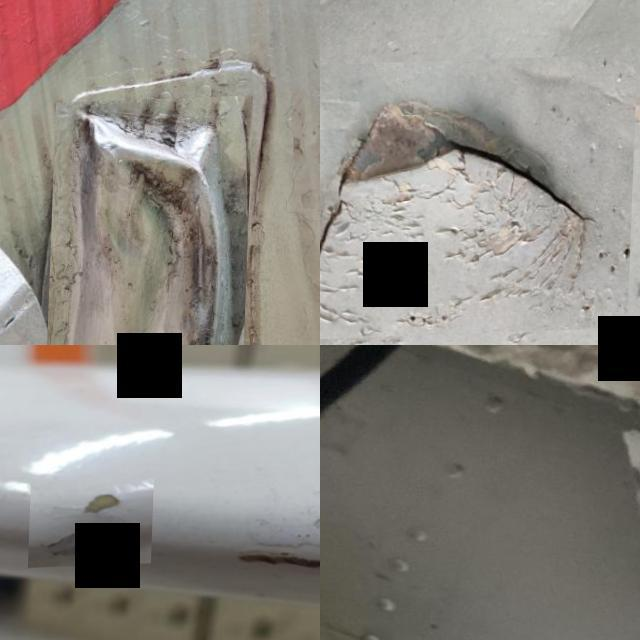Crack: (320, 57, 640, 342), (217, 485, 320, 600), (30, 480, 156, 570)
Dent: (44, 97, 254, 345)
